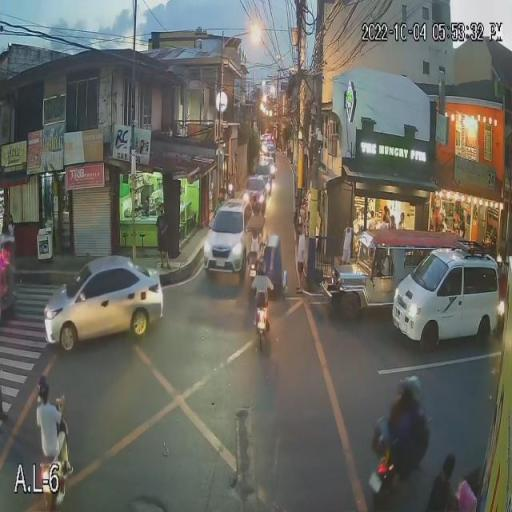helmet: (401, 378, 422, 408), (37, 375, 52, 407), (255, 262, 268, 278)
motorcycle: (375, 435, 433, 498), (36, 437, 71, 500), (252, 302, 270, 349)
rider: (37, 401, 63, 463), (392, 398, 418, 458), (253, 275, 272, 305)
